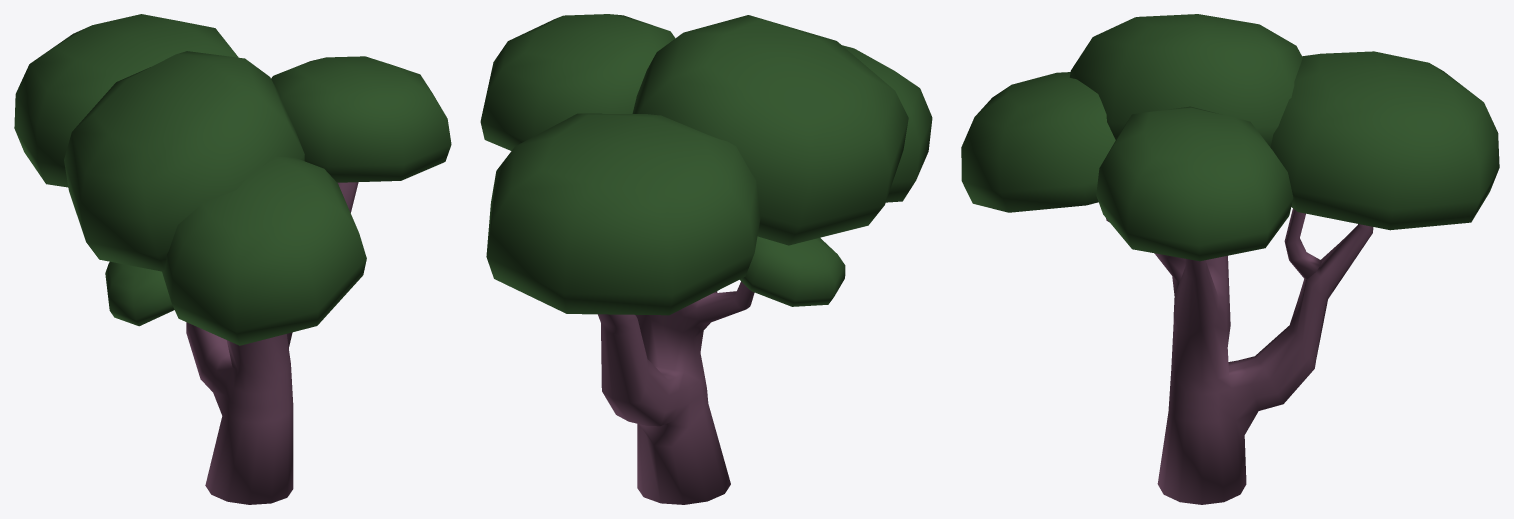
File: Baum1.fbx
The picture shows the model from 3 angles, left to right: view 1: azimuth 30°, elevation 25°; view 2: azimuth 150°, elevation 25°; view 3: azimuth 270°, elevation 25°; orthographic projection. The views are drawn at different scales.
Visible parts, largest first — view 1: Cylinder; view 2: Cylinder; view 3: Cylinder.
Boxes of the visible parts, <box> form: Cylinder: <box>14,14,451,504</box>; Cylinder: <box>480,14,932,504</box>; Cylinder: <box>961,14,1499,504</box>.
Bounding box in the file's own units: 303 × 345 × 382.
